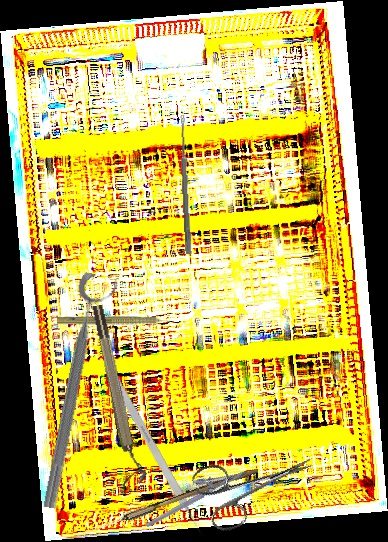Fixation Ring: (35, 271, 121, 513), (88, 302, 149, 486)
Handpiece: (57, 315, 176, 329)
Hook Surgical: (104, 364, 206, 539)
Iris Scissors: (189, 429, 324, 537)
Needle Holder: (137, 456, 249, 529)
Surgical Spoon: (75, 463, 259, 542), (178, 114, 193, 255)
